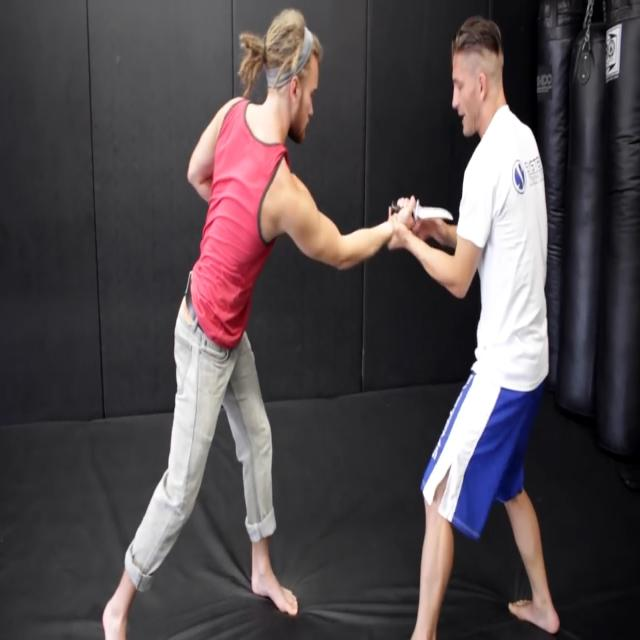knife: (392, 202, 458, 228)
